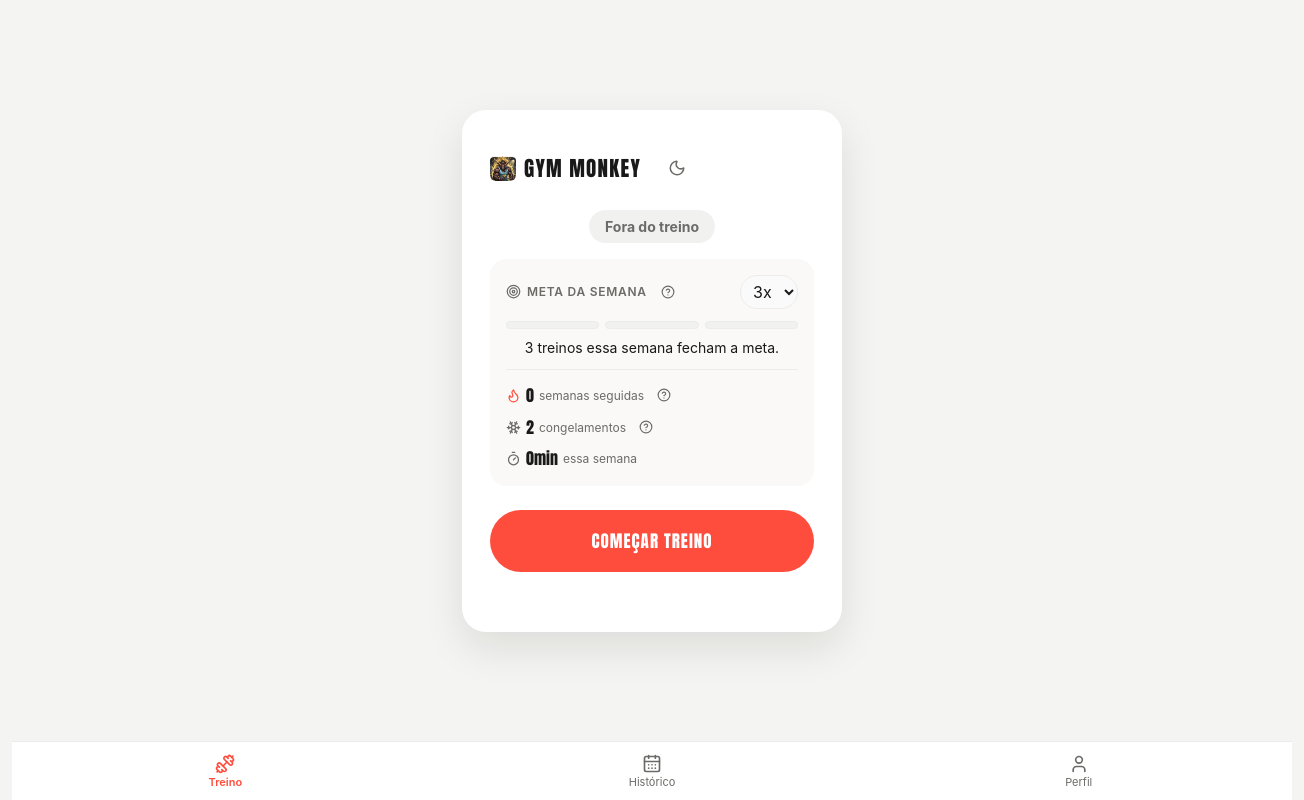
Test: PontoScreen (sessoes) › registro do treino (Fase A) › nao abre o registro ao COMECAR o treino
Click the button "Começar treino": coordinates (652, 541) [490,510,814,572]
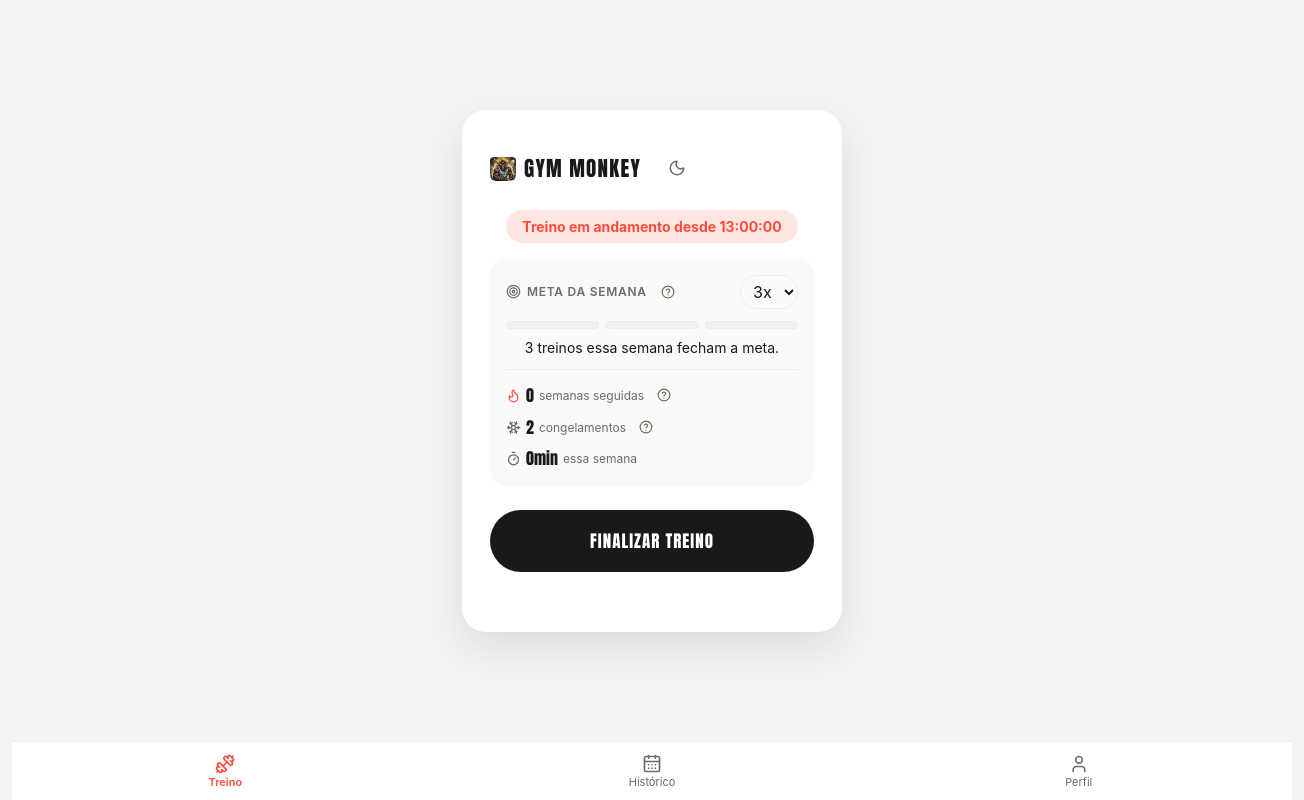
Check: the button "Finalizar treino" is shown, box [490,510,814,572]
